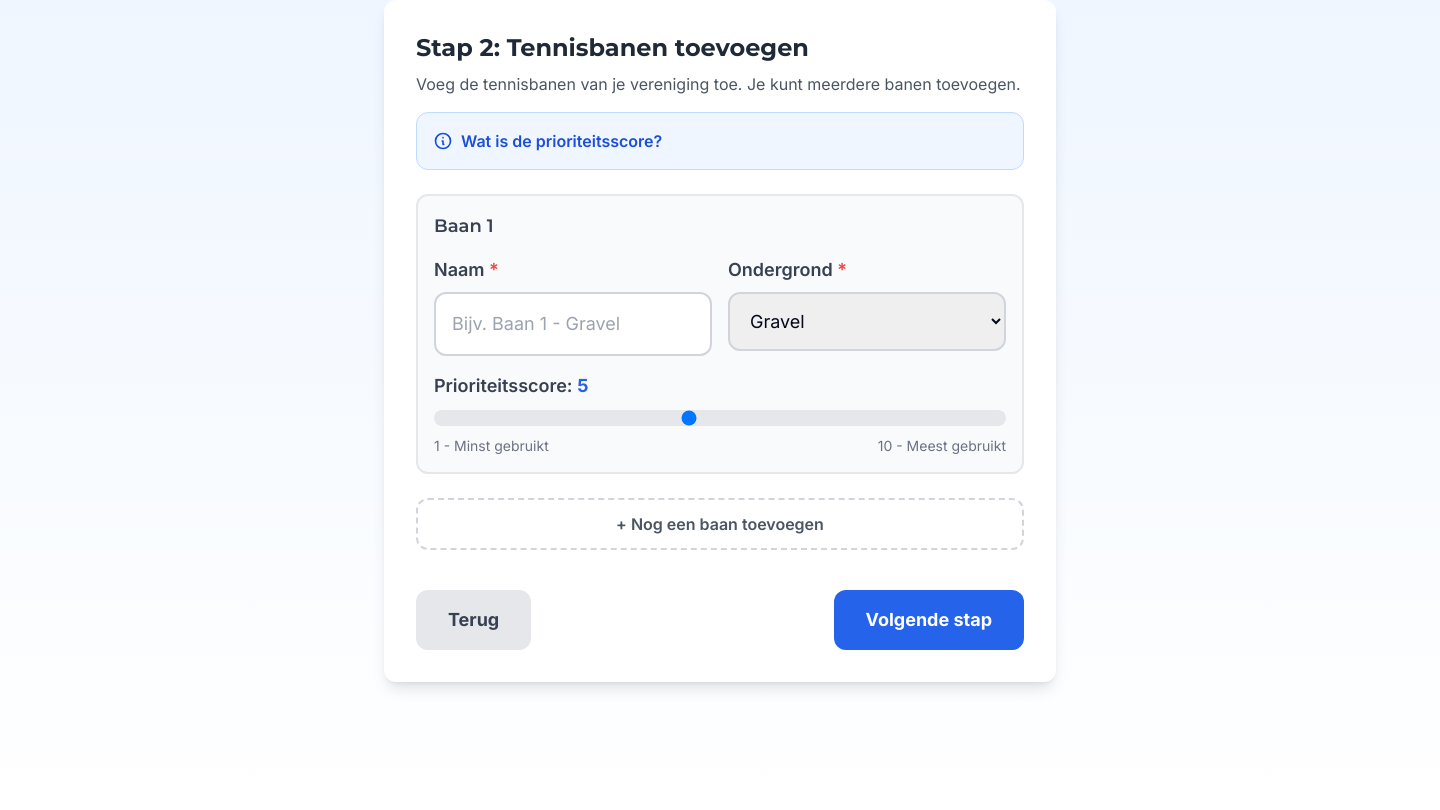
Test: CourtsStep › Validation › should clear validation error when user types in court name
Click the button "Volgende stap". click: (929, 620)
box: [834, 590, 1024, 650]
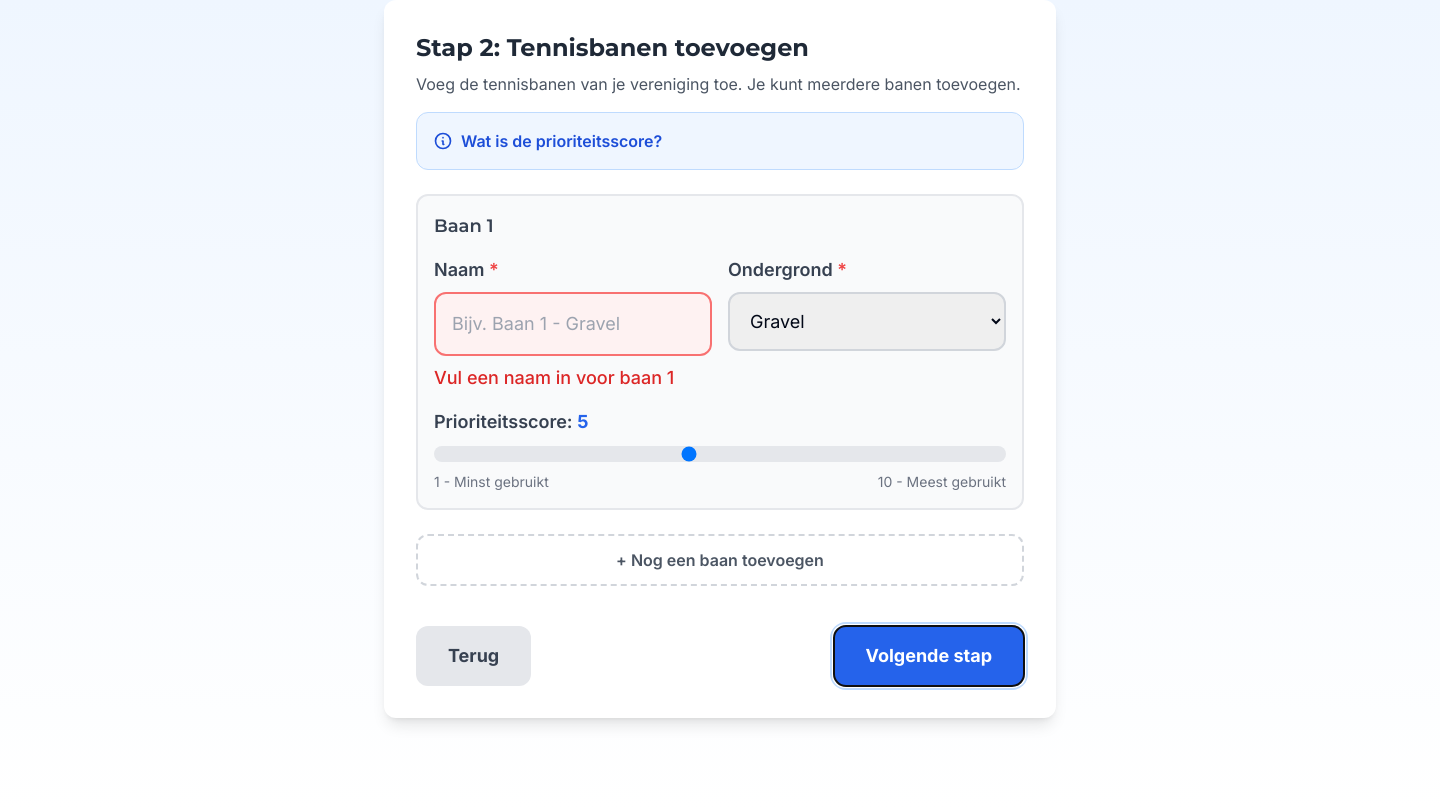
Now the text "Vul een naam in voor baan 1" is shown, box [434, 364, 712, 392]
Type "Baan 1 - Gravel" into the field labelled "Naam *". click: (573, 324)
box: [434, 292, 712, 356]
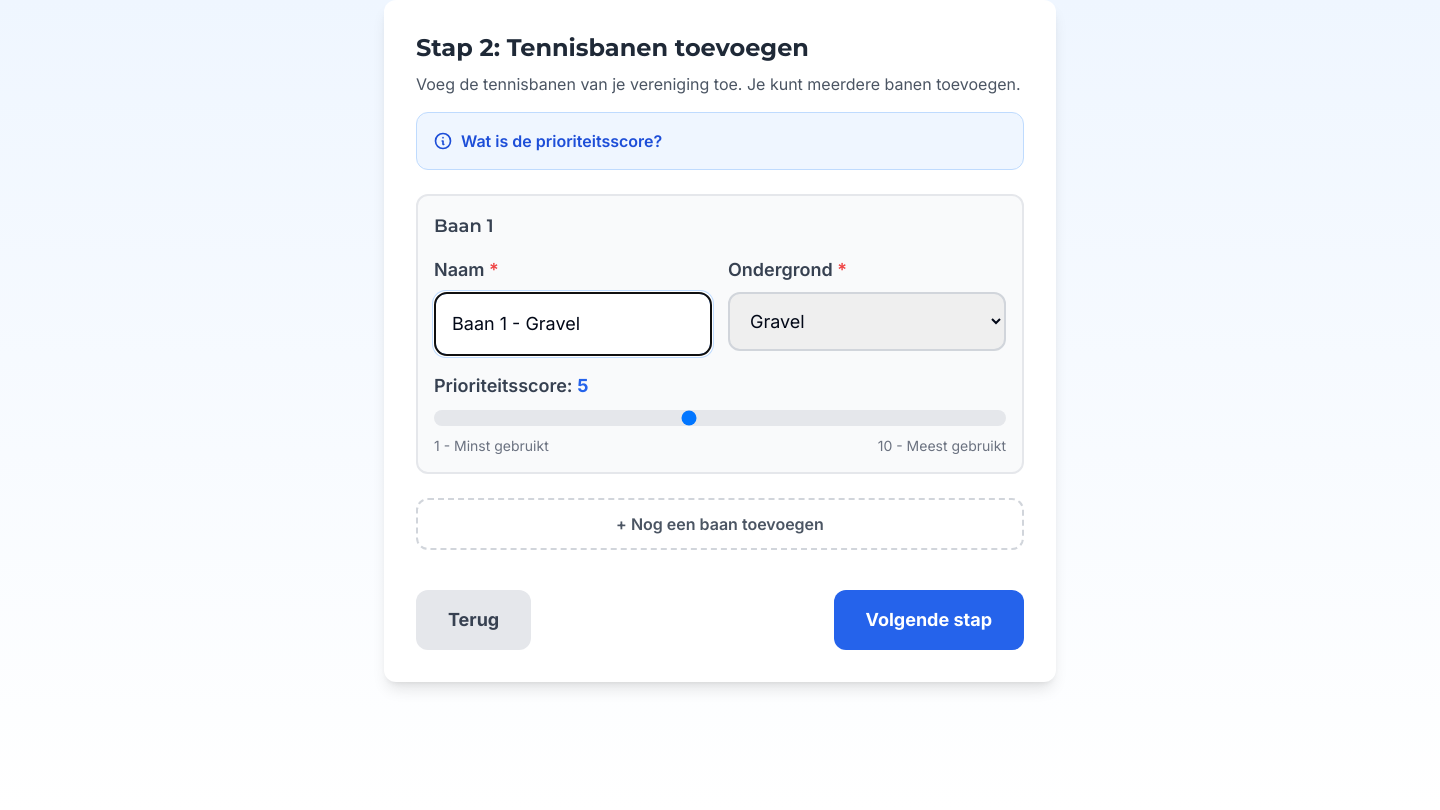
Now the text "Vul een naam in voor baan 1" is gone
